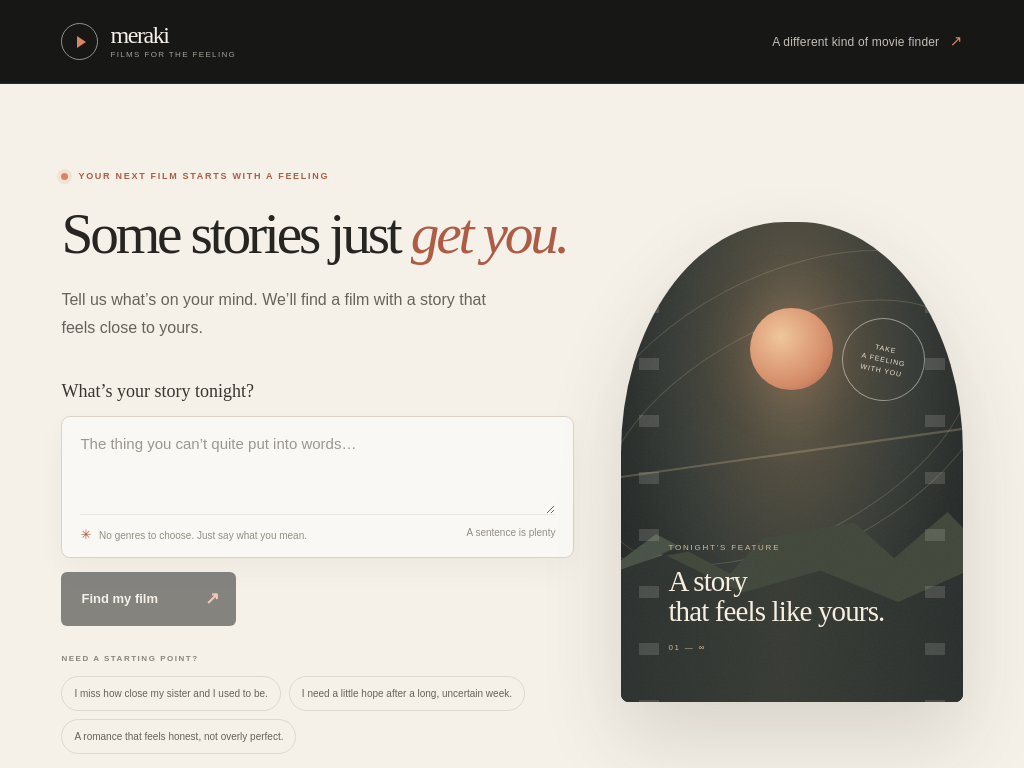
Scenario: Movie discovery flow › submits a situation and shows the matched movie with its explanation
Type "My mom loves me but doesn’t like me." into the text box with id "situation" at (318,473), box [80,432,555,514]
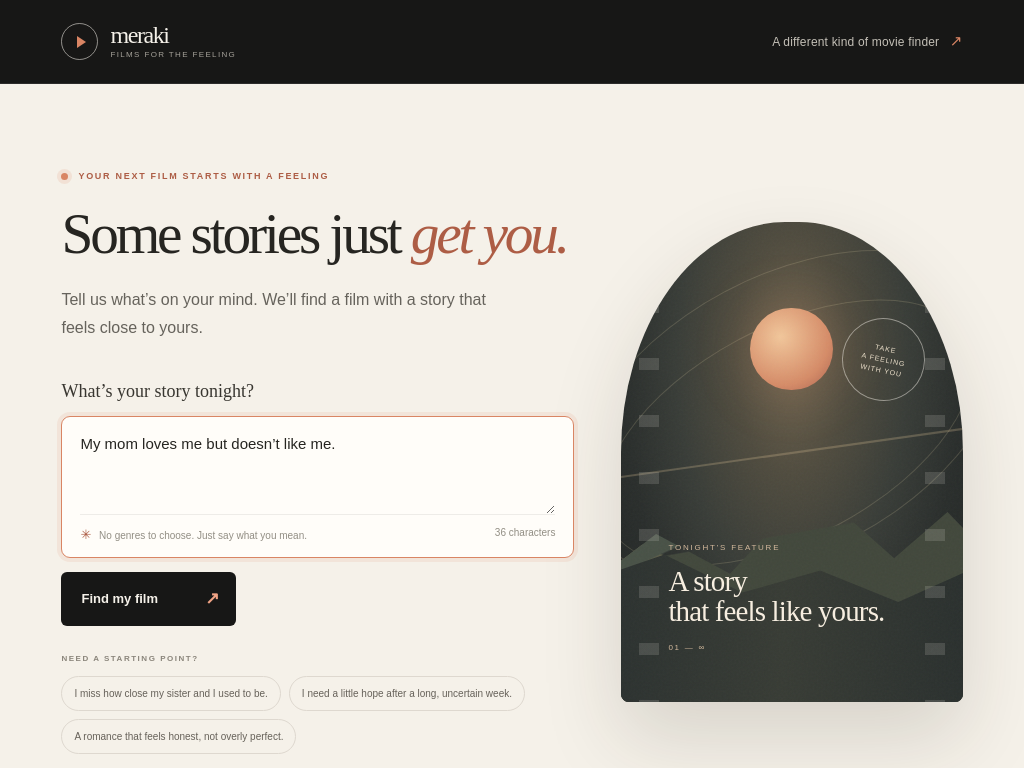
Click the button "Find my film ↗" at (149,599), box [61,572,236,626]
(page scrolled)
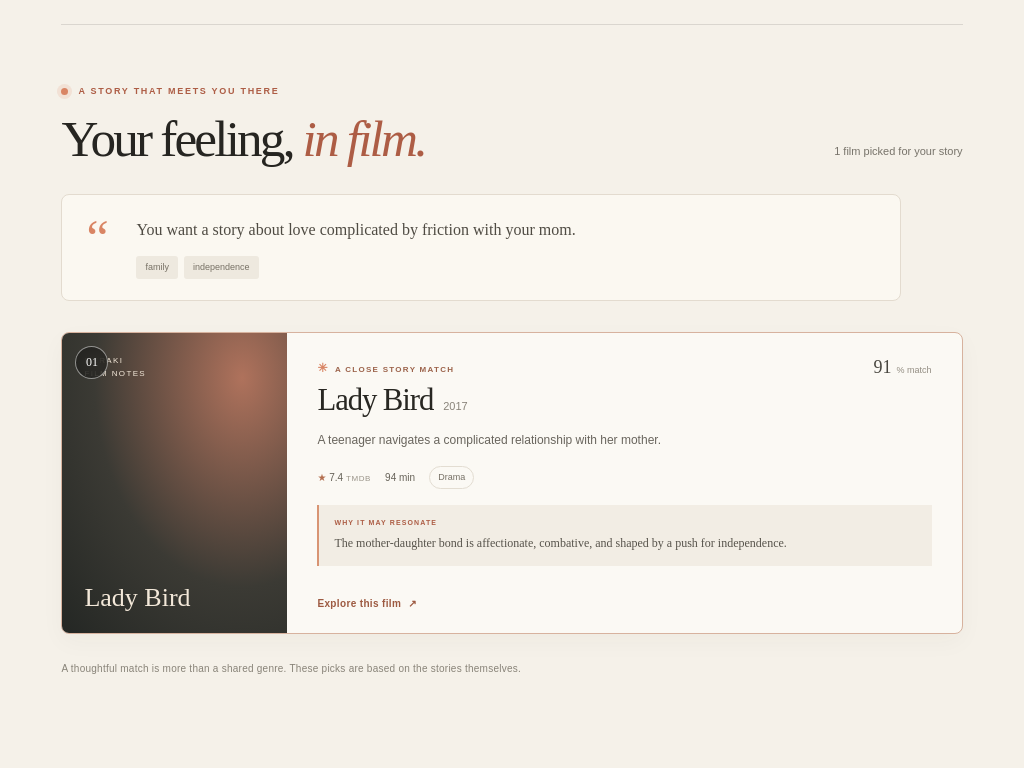
expect the heading "Lady Bird" is shown: met, box [317,383,433,418]
expect the text "The mother-daughter bond is affectionate" is shown: met, box [334,536,786,550]
